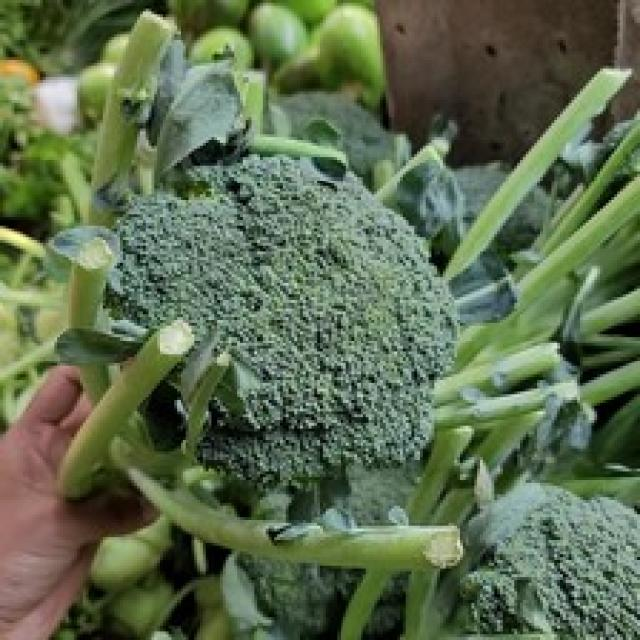Broccoli: (108, 156, 456, 483), (461, 482, 640, 640), (462, 482, 640, 640)
